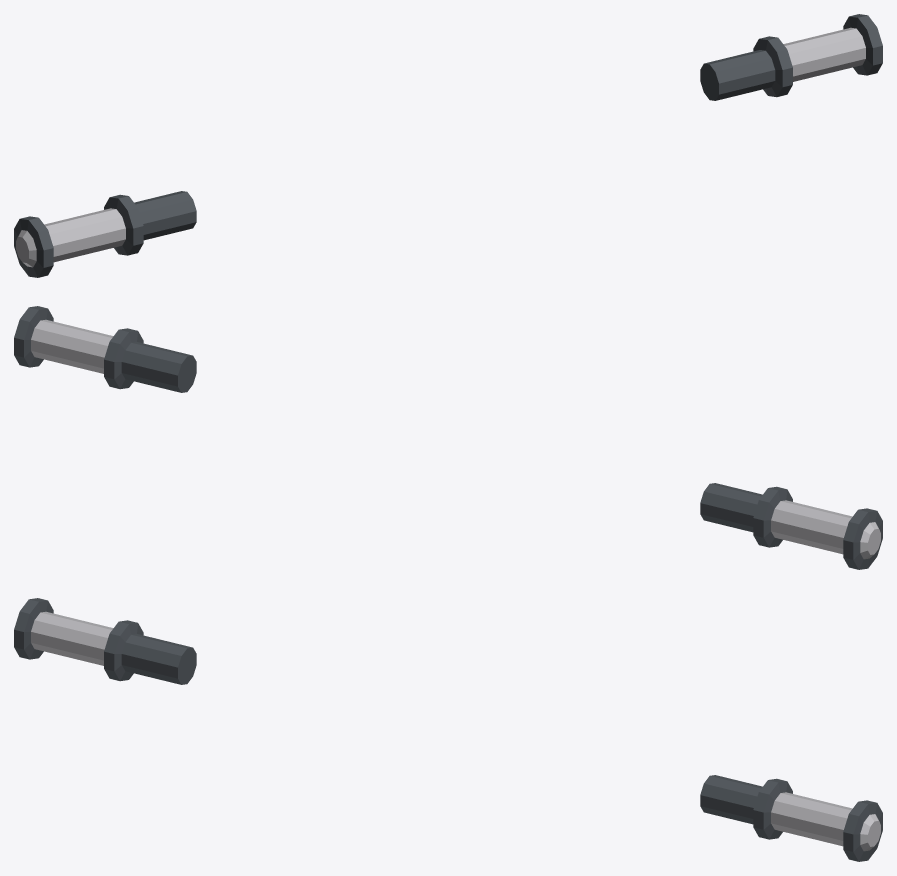
Rendered from Personal_Vehicle_02_Footrest.fbx.
The picture shows the model from 3 angles, top to bottom: view 1: azimuth 30°, elevation 25°; view 2: azimuth 150°, elevation 25°; view 3: azimuth 330°, elevation 25°; orthographic projection.
Parts seen in each view (by area): view 1: Personal_Vehicle_02_Footrest; view 2: Personal_Vehicle_02_Footrest; view 3: Personal_Vehicle_02_Footrest.
Boxes of the visible parts, left/top/right/bottom form: Personal_Vehicle_02_Footrest: left=14, top=14, right=882, bottom=277; Personal_Vehicle_02_Footrest: left=14, top=306, right=882, bottom=569; Personal_Vehicle_02_Footrest: left=14, top=598, right=882, bottom=861.
Size of the model in its own units: 131 by 8.31 by 7.91.
1 material, 1 textured.
